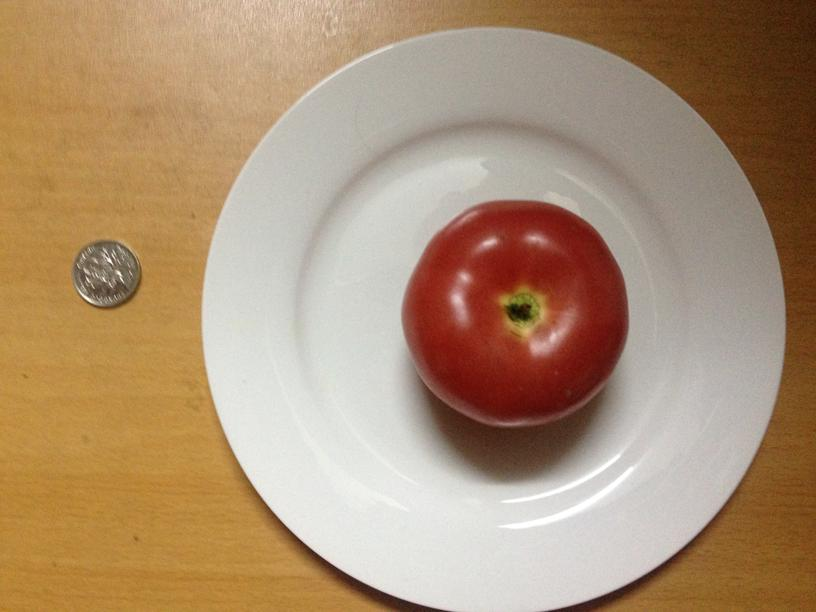coin: (71, 239, 141, 309)
tomato: (404, 200, 629, 428)
